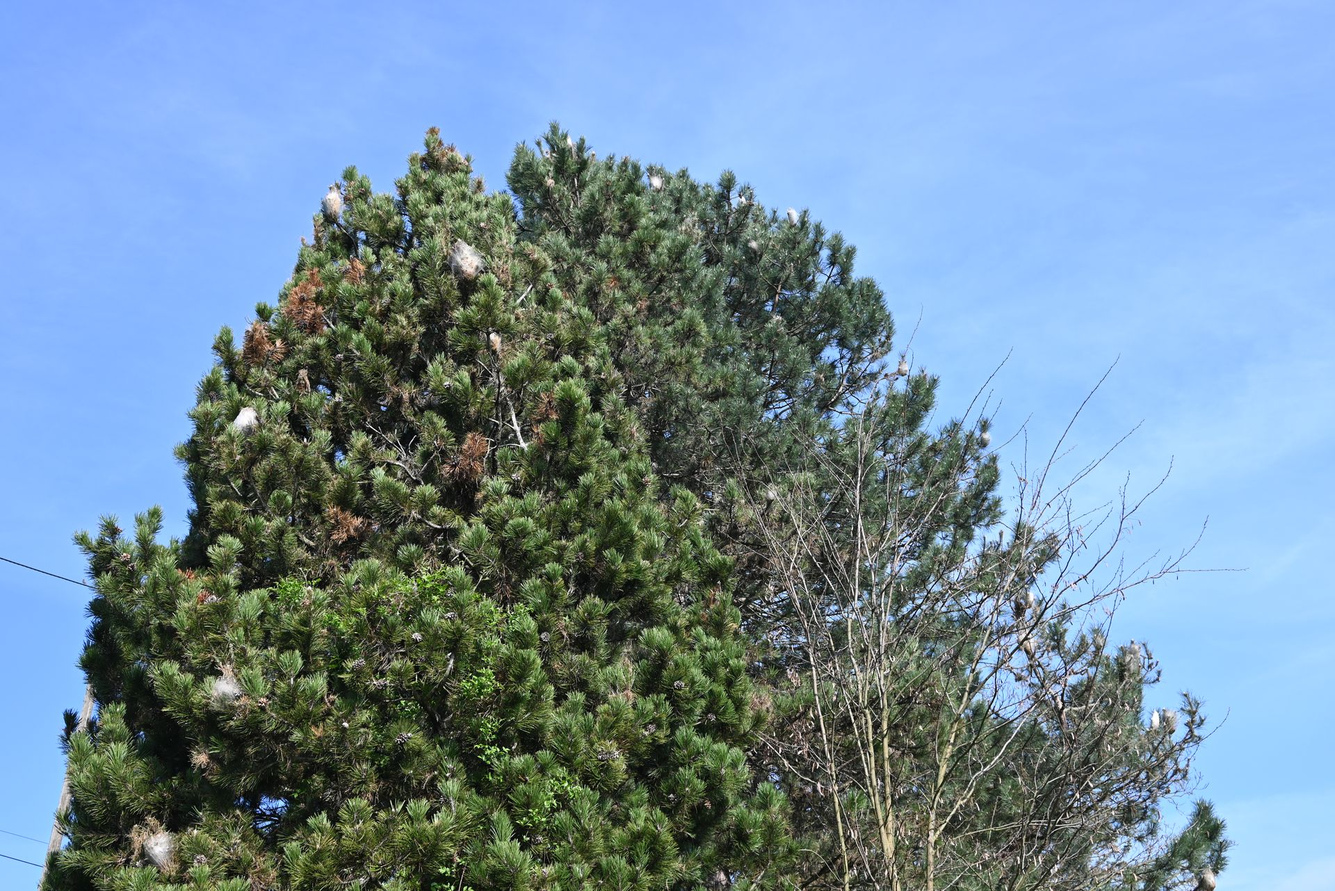thaumatopoea pityocampa jajno gnijezdo: (135, 820, 179, 873), (207, 665, 244, 704), (448, 241, 484, 281), (320, 188, 351, 223), (1189, 858, 1219, 891), (1146, 708, 1175, 737), (231, 406, 258, 435), (1122, 643, 1145, 675), (974, 422, 998, 449), (644, 172, 670, 194), (897, 358, 913, 380), (487, 332, 502, 354), (787, 209, 802, 228), (745, 240, 762, 252)
